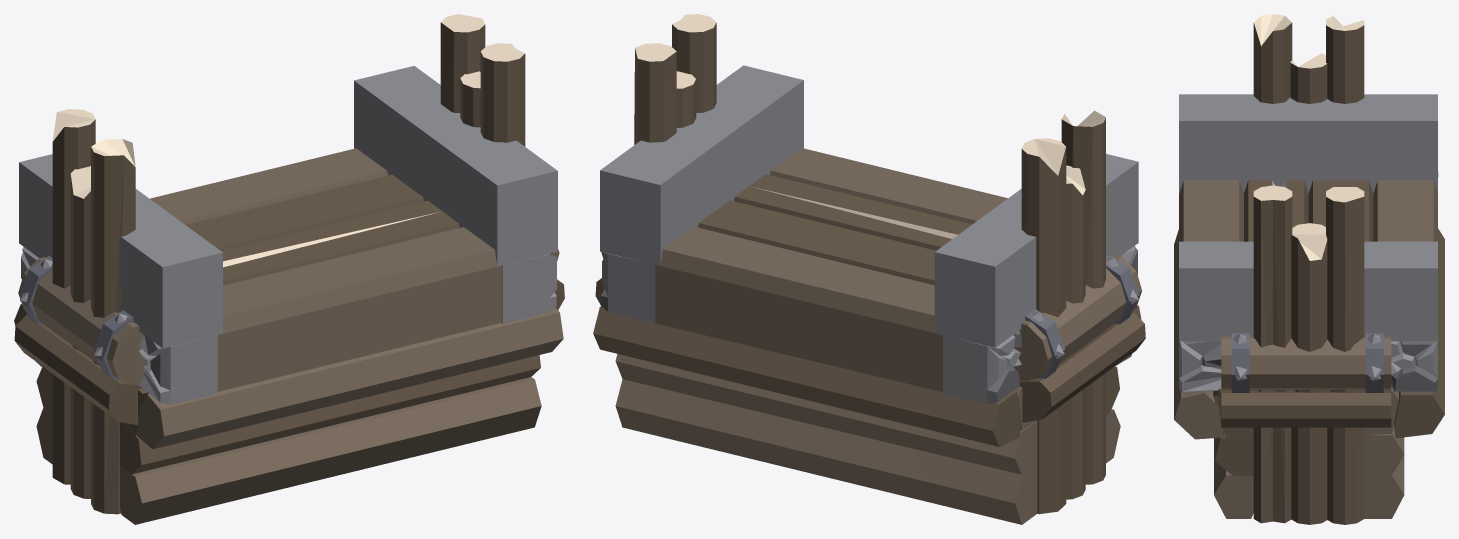
Rendered from bridge_main.fbx.
3 renders of one model, left to right at view 1: azimuth 30°, elevation 25°; view 2: azimuth 150°, elevation 25°; view 3: azimuth 270°, elevation 25°, orthographic. The views are drawn at different scales.
Parts seen in each view (by area): view 1: bridhe_main; view 2: bridhe_main; view 3: bridhe_main.
Boxes of the visible parts, x1,y1,x2,y2 form: bridhe_main: [14, 14, 564, 524]; bridhe_main: [593, 14, 1145, 524]; bridhe_main: [1174, 14, 1444, 524].
Size of the model in its own units: 574 by 422 by 321.
